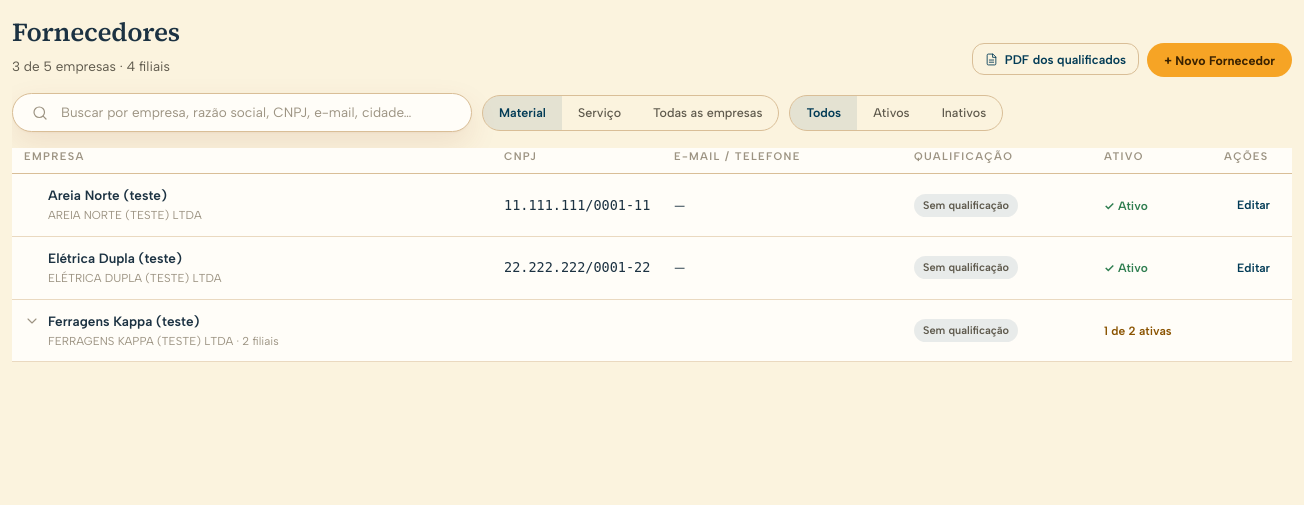
Test: D964 — a lista mostra quem fornece material › "Todas as empresas" mostra todas, inclusive a que não tem marca
Click the button "Todas as empresas": click(708, 113) 637,96 -> 778,130
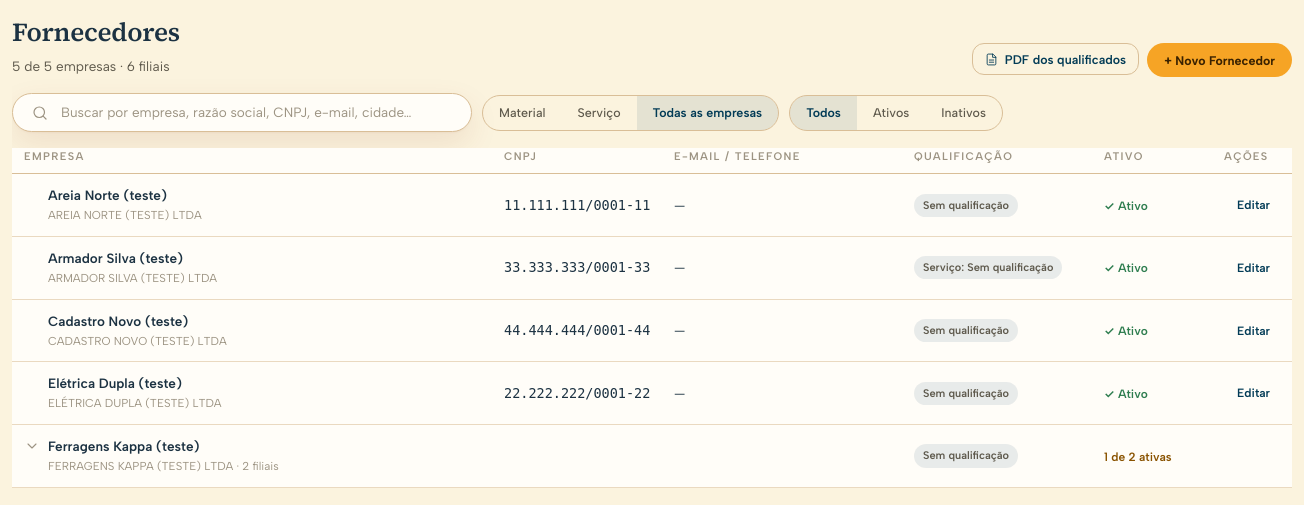
Result: the text "5 de 5 empresas · 6 filiais" is shown at 12,56 -> 180,77
